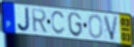C: (50, 10, 66, 36)
G: (67, 11, 84, 38)
J: (16, 7, 32, 33)
O: (88, 14, 104, 40)
R: (31, 8, 48, 34)
V: (103, 14, 120, 42)
